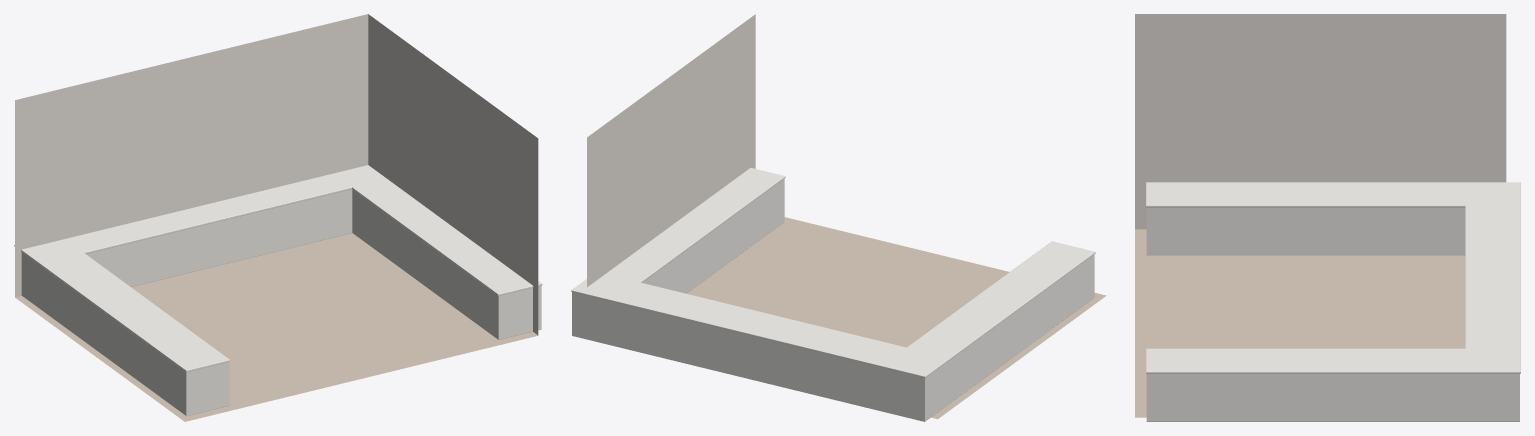
The model's file is mesa-u.glb.
The picture shows the model from 3 angles, left to right: view 1: azimuth 30°, elevation 25°; view 2: azimuth 150°, elevation 25°; view 3: azimuth 270°, elevation 25°; orthographic projection. The views are drawn at different scales.
Parts seen in each view (by area): view 1: sala, decoracion; view 2: decoracion, sala; view 3: sala, decoracion.
Boxes of the visible parts, <box> form: sala: <box>15,14,538,421</box>; decoracion: <box>14,165,542,416</box>; decoracion: <box>571,168,1095,421</box>; sala: <box>587,14,1106,419</box>; sala: <box>1135,14,1506,417</box>; decoracion: <box>1146,182,1520,421</box>.
Size of the model in its own units: 6.16 by 3.2 by 5.2.
